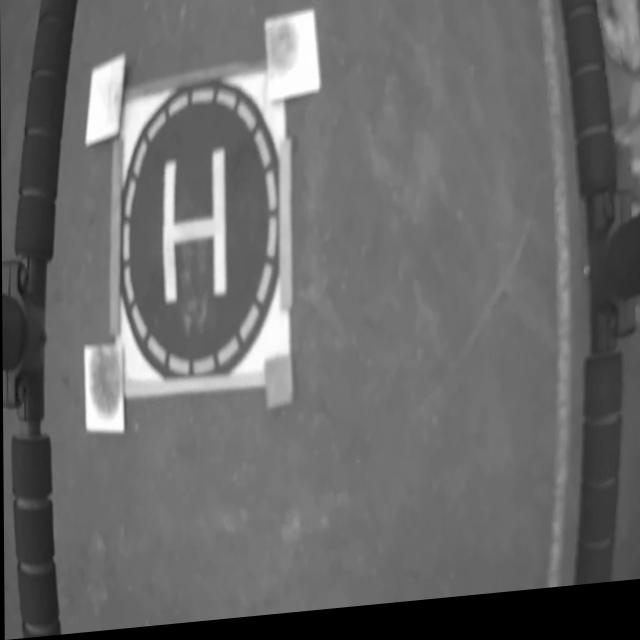Helipad: (163, 152, 226, 305)
